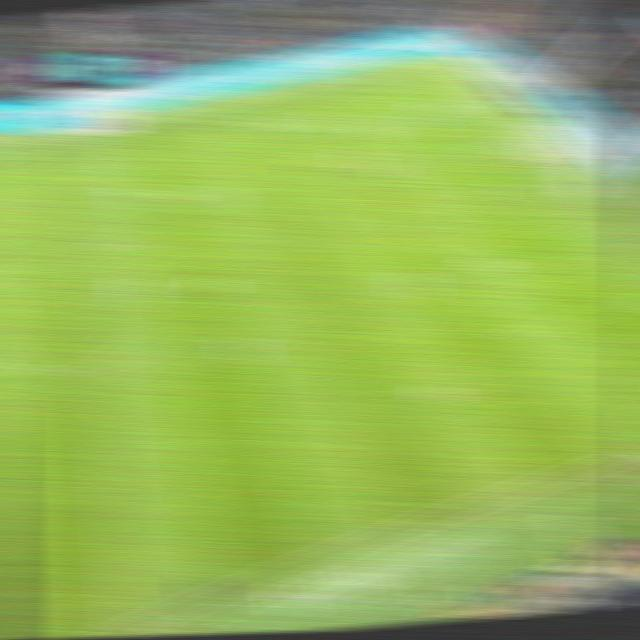bigarea_bottom_inner: (493, 330, 529, 344)
bigarea_top_inner: (348, 124, 381, 135)
bigarea_top_outter: (462, 93, 497, 109)
bottom_arc_area_intersection: (588, 216, 625, 232), (433, 246, 469, 261)
corner: (419, 53, 455, 67)
halfcircle_bottom: (85, 357, 122, 372)
halfcircle_top: (72, 241, 110, 257)
midline_bottom_intersection: (110, 619, 148, 636)
midline_top_intersection: (61, 133, 96, 147)
smallarea_bottom_inner: (541, 230, 577, 246)
smallarea_top_inner: (463, 142, 495, 159)
smallarea_top_outter: (503, 133, 535, 147)
top_arc_area_intersection: (383, 173, 418, 186)
